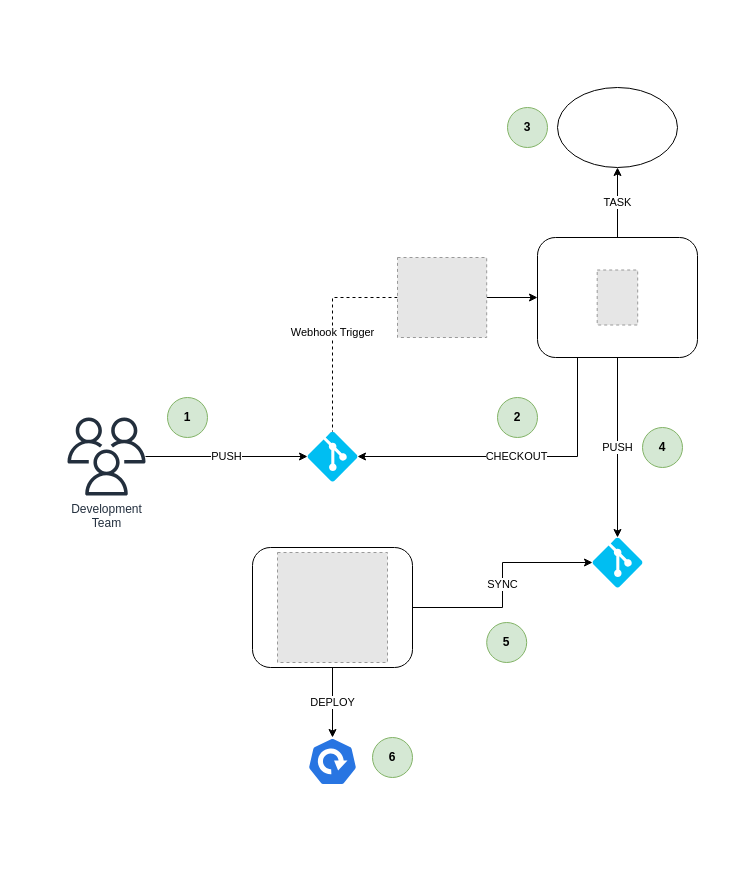
The diagram is 754 pixels wide and 874 high, and some of its shapes have lost their labels. Grey dashed boxes stand in for pictures. Here are the shapes that lost their labels. From the top down, the box of each, then its label:
(556, 86, 678, 168): Prepare Hel;m Charts
(307, 431, 357, 481): application-repo-01
(592, 537, 642, 587): deployment-maintenance
